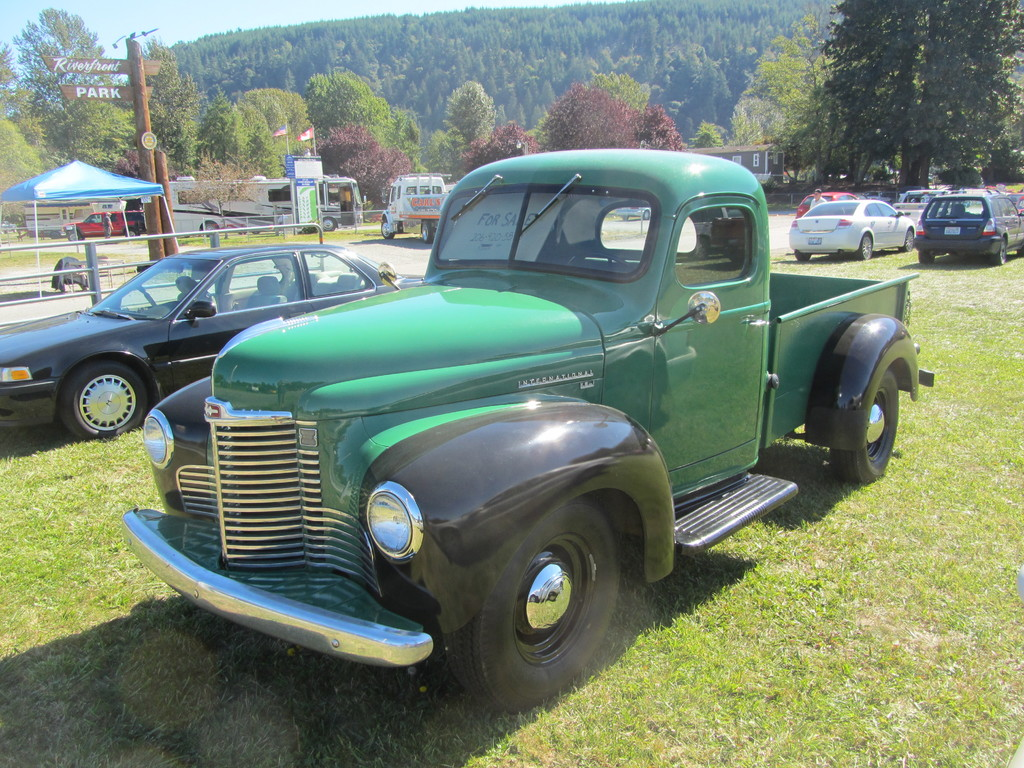Car: (0, 244, 424, 444), (784, 194, 916, 256), (917, 192, 1023, 260)
